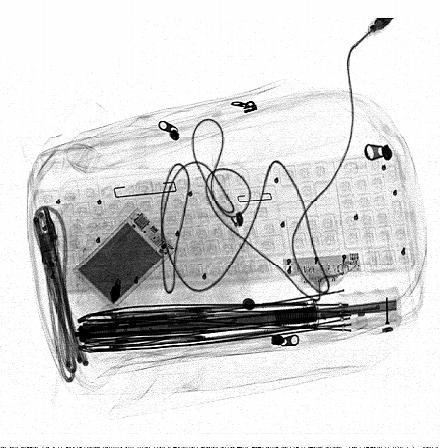Powerbank: (71, 206, 178, 310)
